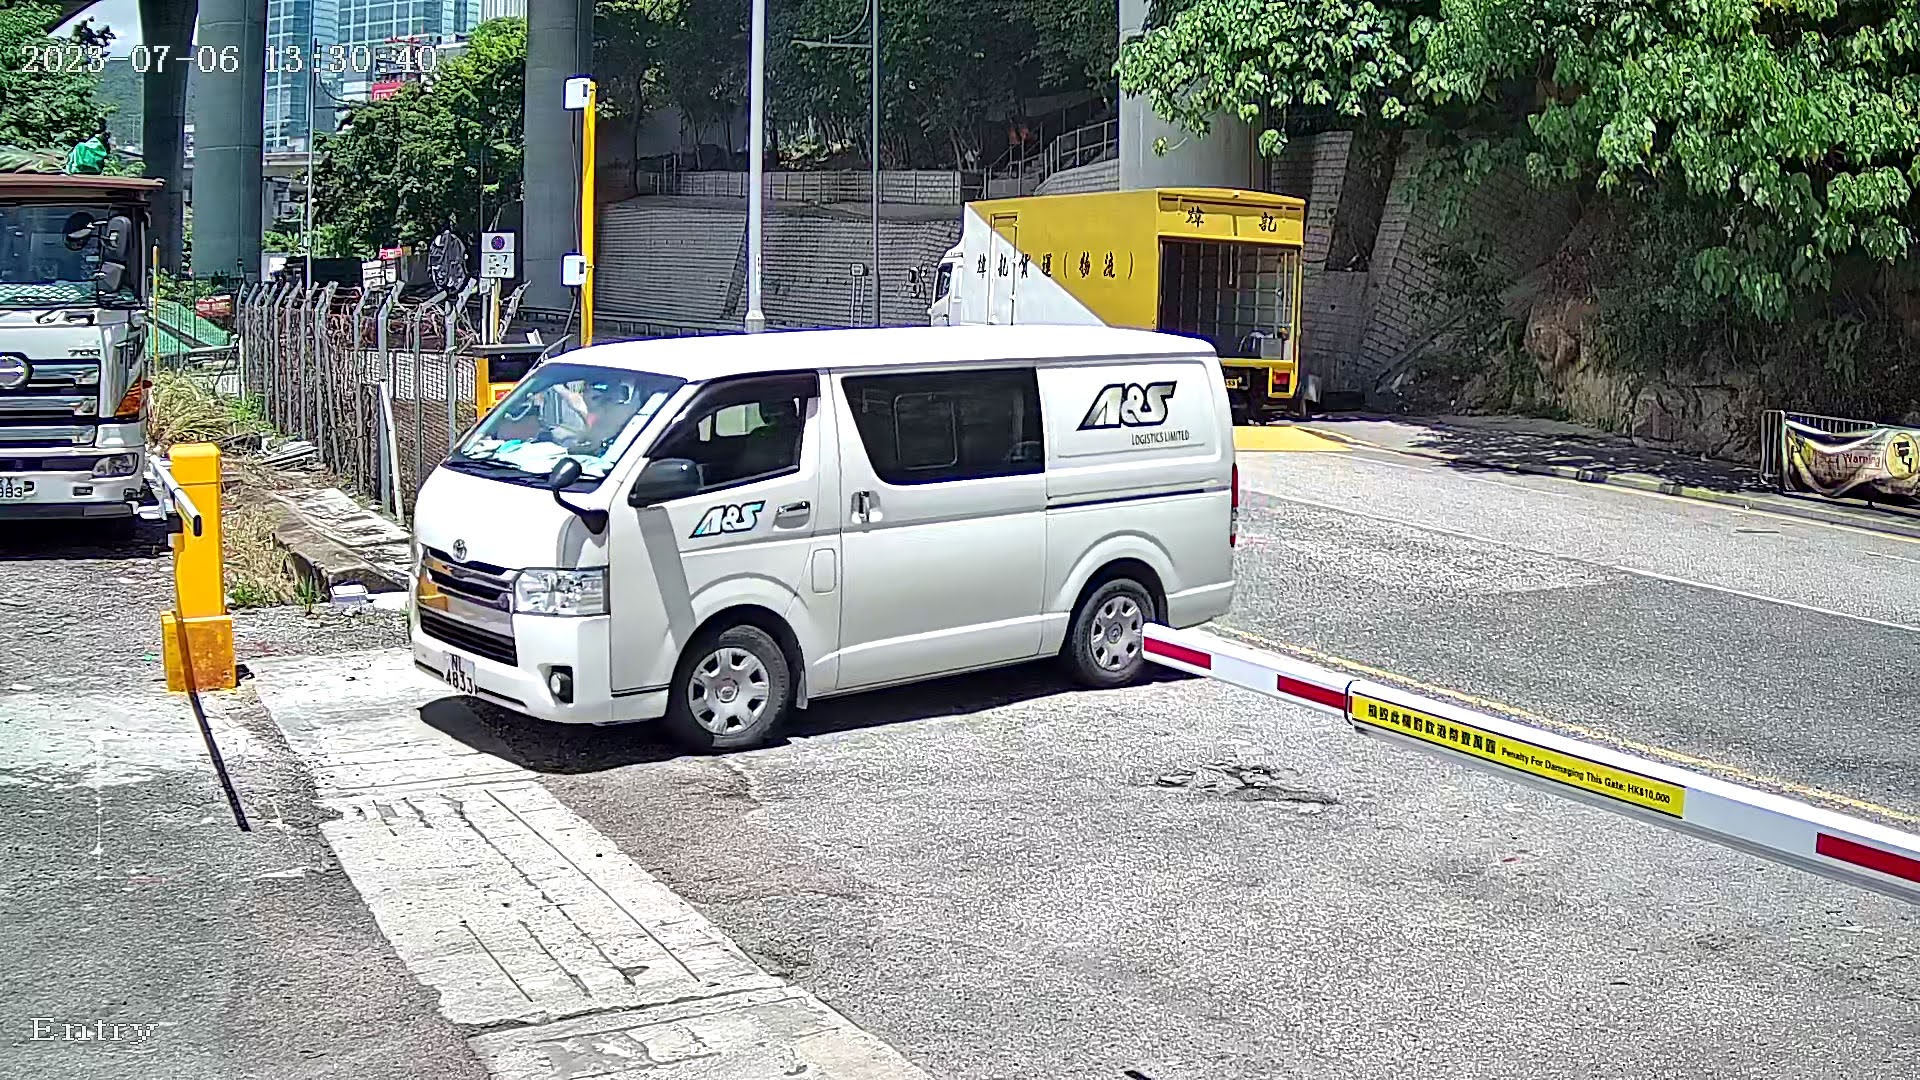privatecar: (301, 245, 1276, 785)
